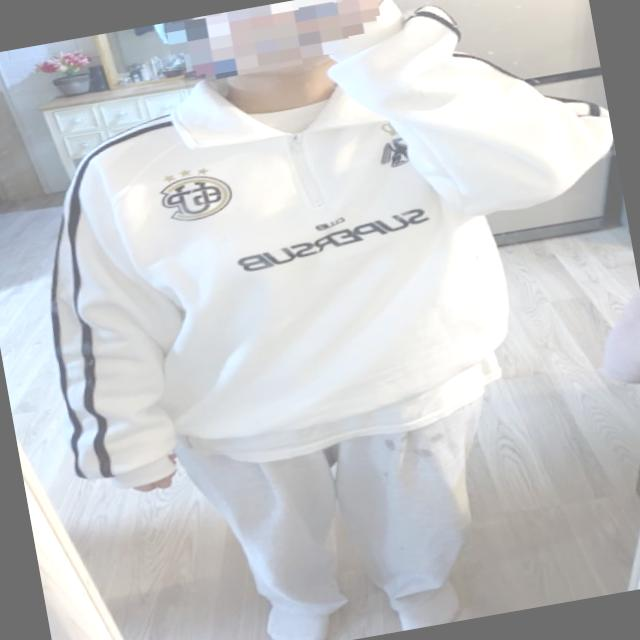mtm: (6, 0, 640, 495)
trainingpants: (174, 380, 516, 632)
